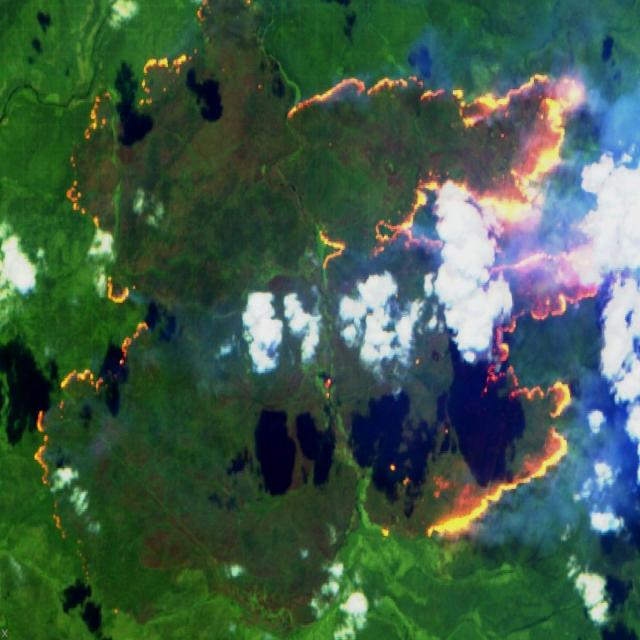fire: (0, 46, 640, 556)
